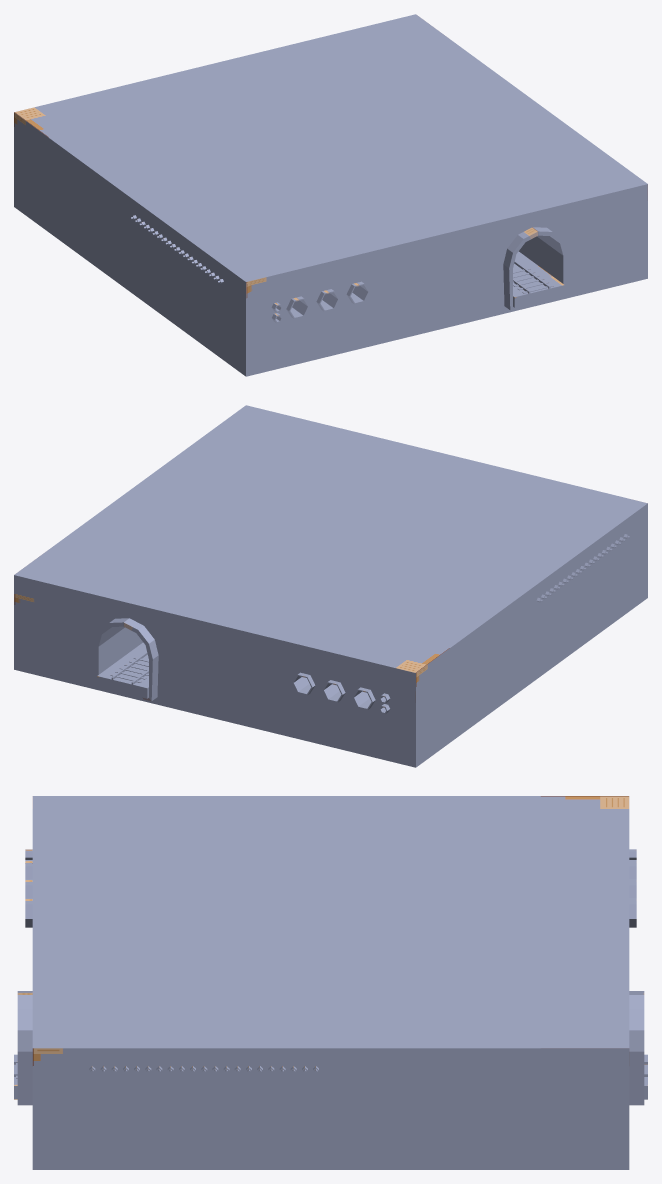
Rendered from underground_01.FBX.
3 renders of one model, top to bottom at view 1: azimuth 30°, elevation 25°; view 2: azimuth 150°, elevation 25°; view 3: azimuth 270°, elevation 25°, orthographic. The views are drawn at different scales.
Visible parts, largest first — view 1: underground_01; view 2: underground_01; view 3: underground_01.
Part boxes in pixels (<box>): underground_01: <box>14,14,647,376</box>; underground_01: <box>14,405,647,767</box>; underground_01: <box>14,796,647,1169</box>.
Size of the model in its own units: 4100 by 900 by 4250.
